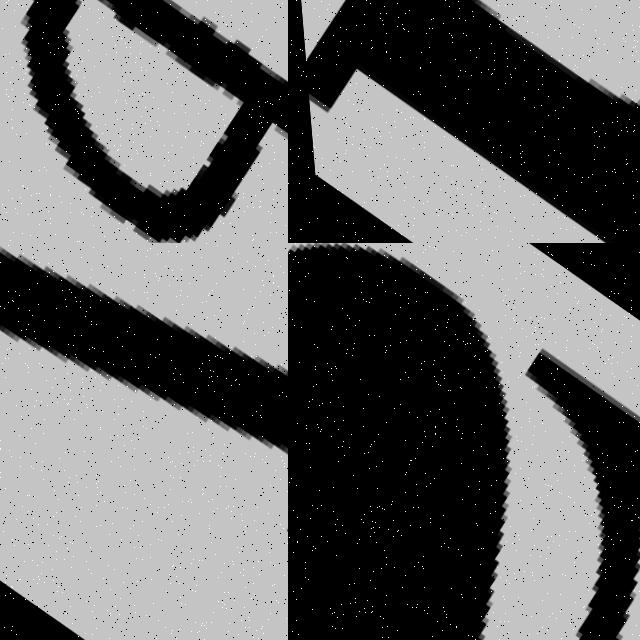L: (0, 243, 288, 624)
P: (22, 0, 288, 238)
Q: (288, 0, 640, 243)
S: (288, 243, 640, 640)
